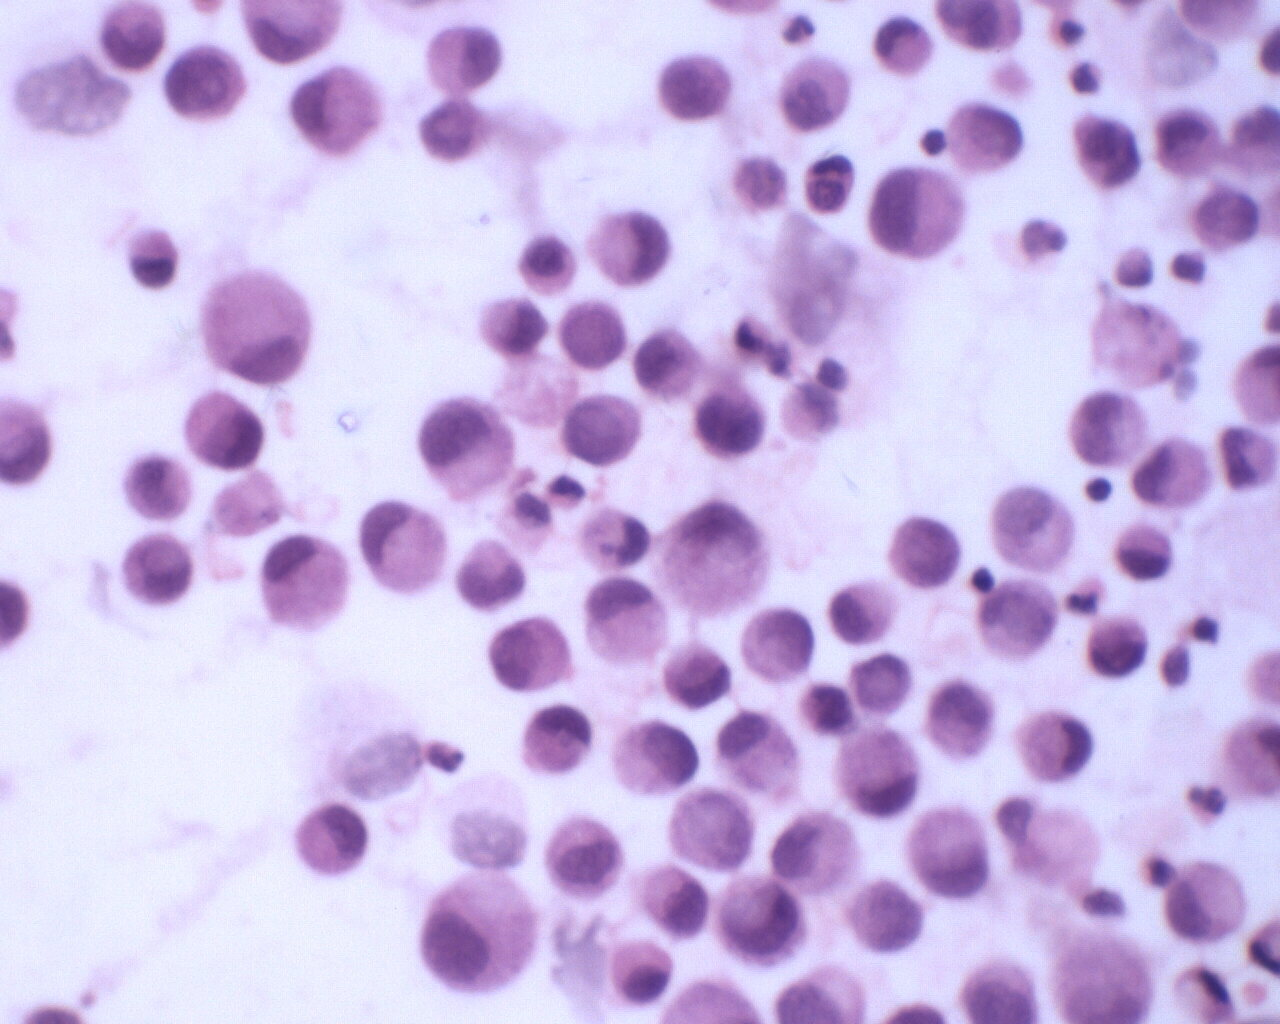ab: (715, 872, 809, 974), (538, 812, 628, 903), (183, 385, 267, 473), (920, 675, 1002, 766), (158, 41, 249, 122), (489, 611, 573, 695), (560, 387, 643, 470), (940, 98, 1028, 177), (117, 527, 199, 609), (888, 511, 965, 597), (696, 380, 770, 466), (1189, 184, 1263, 259), (658, 55, 740, 122), (1084, 610, 1150, 677)
histo: (195, 263, 317, 389), (253, 527, 355, 636), (358, 496, 453, 600), (578, 575, 677, 673), (831, 721, 927, 822), (1165, 862, 1249, 947), (1014, 702, 1095, 789)
lymph: (1081, 467, 1115, 509)
meso: (418, 865, 546, 997), (609, 933, 681, 1005), (516, 232, 580, 301)
neutro: (776, 7, 825, 49)
